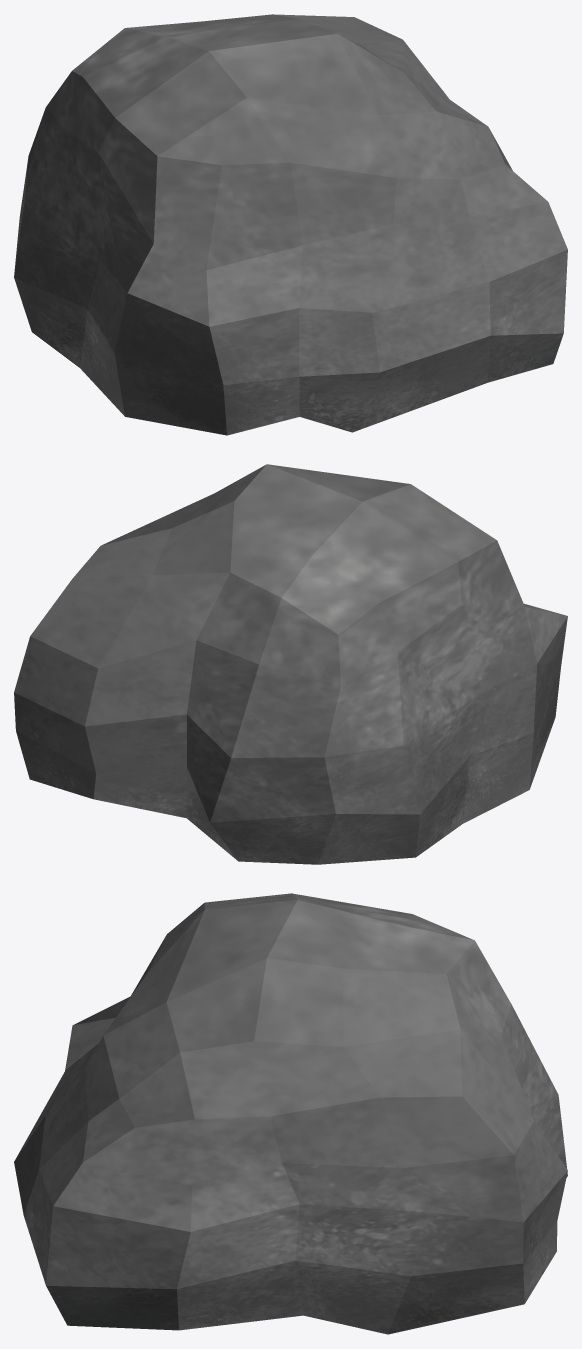
The model's file is Stein3.fbx.
3 views of the same model, one above another, from view 1: azimuth 30°, elevation 25°; view 2: azimuth 150°, elevation 25°; view 3: azimuth 270°, elevation 25° (orthographic). The views are drawn at different scales.
Parts seen in each view (by area): view 1: Steinblock.000; view 2: Steinblock.000; view 3: Steinblock.000.
Boxes of the visible parts, <box> form: Steinblock.000: <box>14,14,567,435</box>; Steinblock.000: <box>14,464,567,864</box>; Steinblock.000: <box>14,893,567,1334</box>.
Size of the model in its own units: 235 by 158 by 249.
